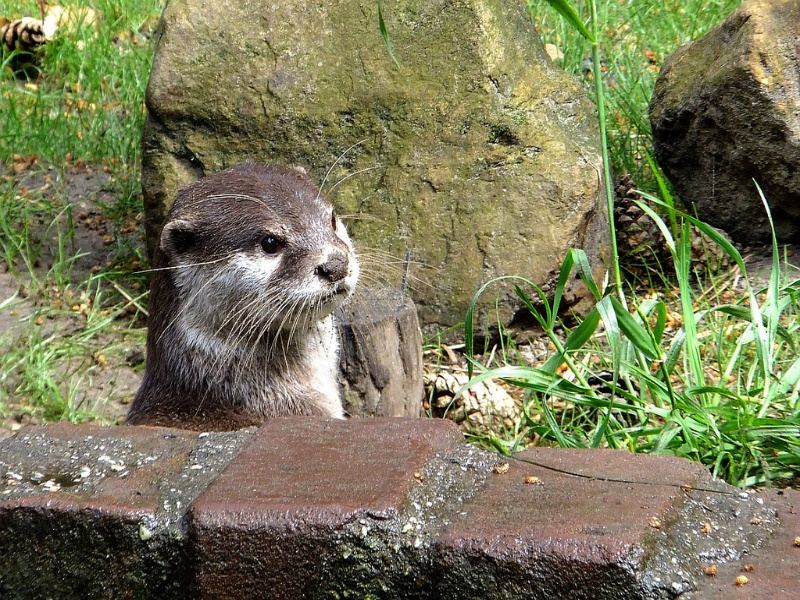minkish: (119, 163, 365, 447)
